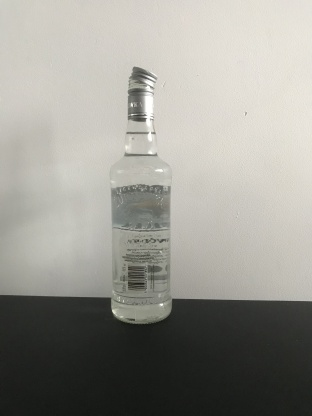nakretka: (126, 64, 158, 121)
